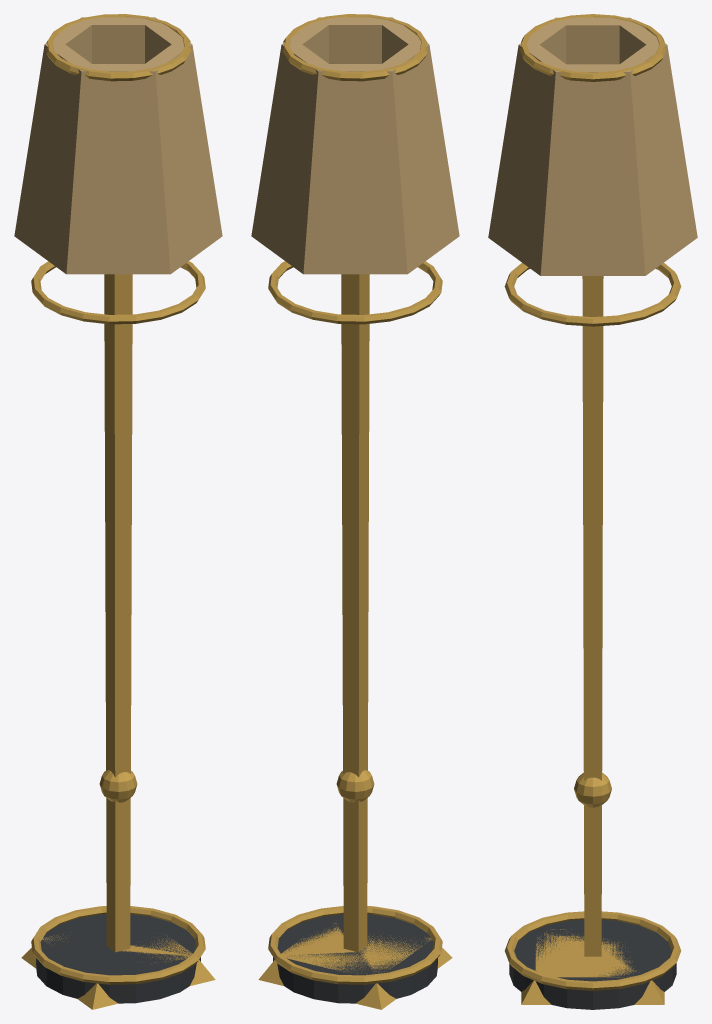
The model's file is lampRoundFloor.glb.
3 renders of one model, left to right at view 1: azimuth 30°, elevation 25°; view 2: azimuth 150°, elevation 25°; view 3: azimuth 270°, elevation 25°, orthographic.
Parts seen in each view (by area): view 1: lampRoundFloor(Clone); view 2: lampRoundFloor(Clone); view 3: lampRoundFloor(Clone).
Boxes of the visible parts, bbox=[...] form: lampRoundFloor(Clone): bbox=[14, 14, 222, 1009]; lampRoundFloor(Clone): bbox=[251, 14, 459, 1009]; lampRoundFloor(Clone): bbox=[488, 14, 697, 1009].
Bounding box in the file's own units: 0.152 × 0.86 × 0.1756.
